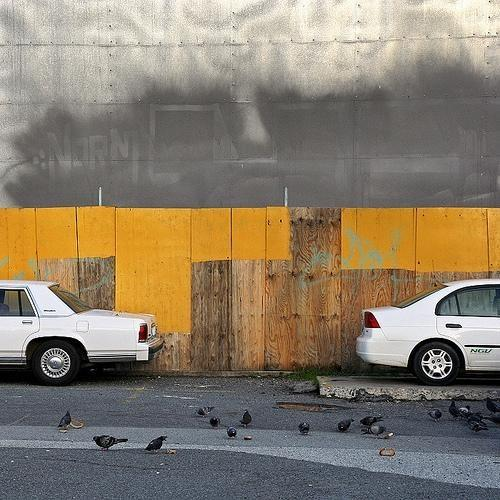car: (0, 280, 166, 387), (357, 279, 500, 386)
